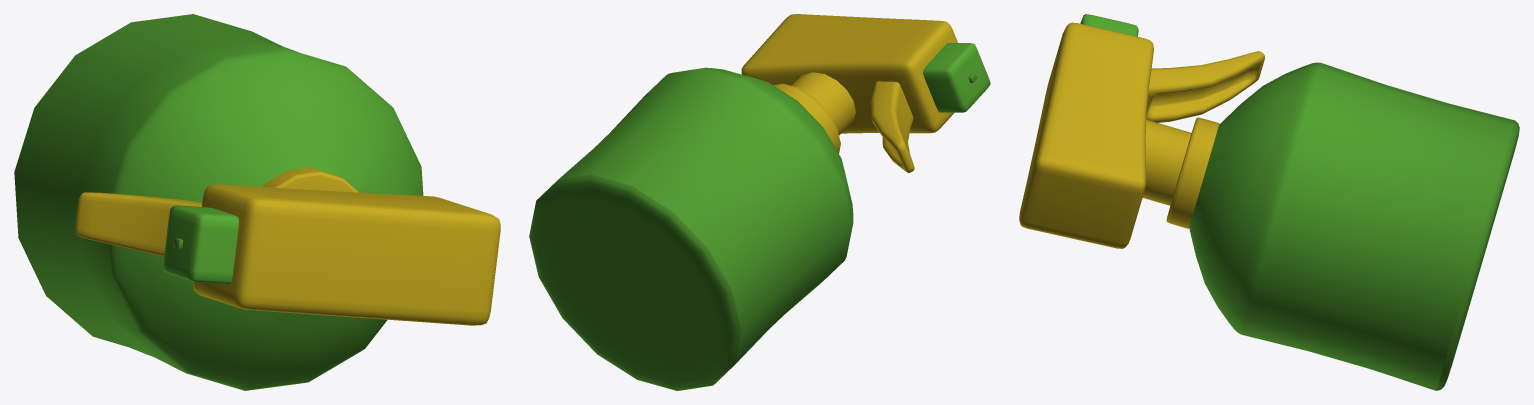
Rendered from SprayBottle-Animated.fbx.
The picture shows the model from 3 angles, left to right: view 1: azimuth 30°, elevation 25°; view 2: azimuth 150°, elevation 25°; view 3: azimuth 270°, elevation 25°; orthographic projection. The views are drawn at different scales.
Parts seen in each view (by area): view 1: SprayBottle-Animated; view 2: SprayBottle-Animated; view 3: SprayBottle-Animated.
Part boxes in pixels (left/top/right/bottom): SprayBottle-Animated: left=14, top=14, right=500, bottom=390; SprayBottle-Animated: left=529, top=14, right=990, bottom=390; SprayBottle-Animated: left=1019, top=14, right=1519, bottom=390.
Size of the model in its own units: 9.74 by 8.76 by 13.57.
